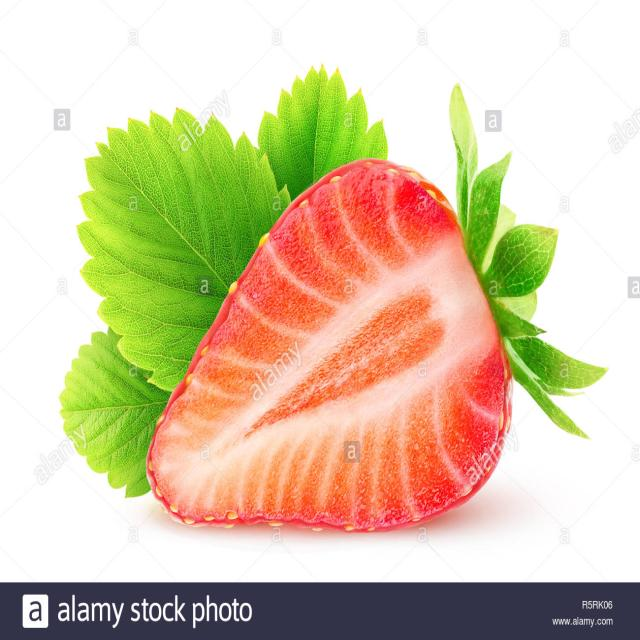strawberry: (130, 128, 577, 544)
